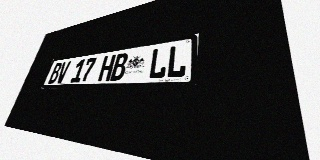1: (70, 59, 87, 83)
7: (79, 57, 97, 82)
B: (110, 52, 129, 81), (48, 62, 63, 84)
H: (97, 54, 116, 81)
L: (166, 44, 188, 78), (147, 47, 169, 79)
V: (55, 61, 71, 83)
